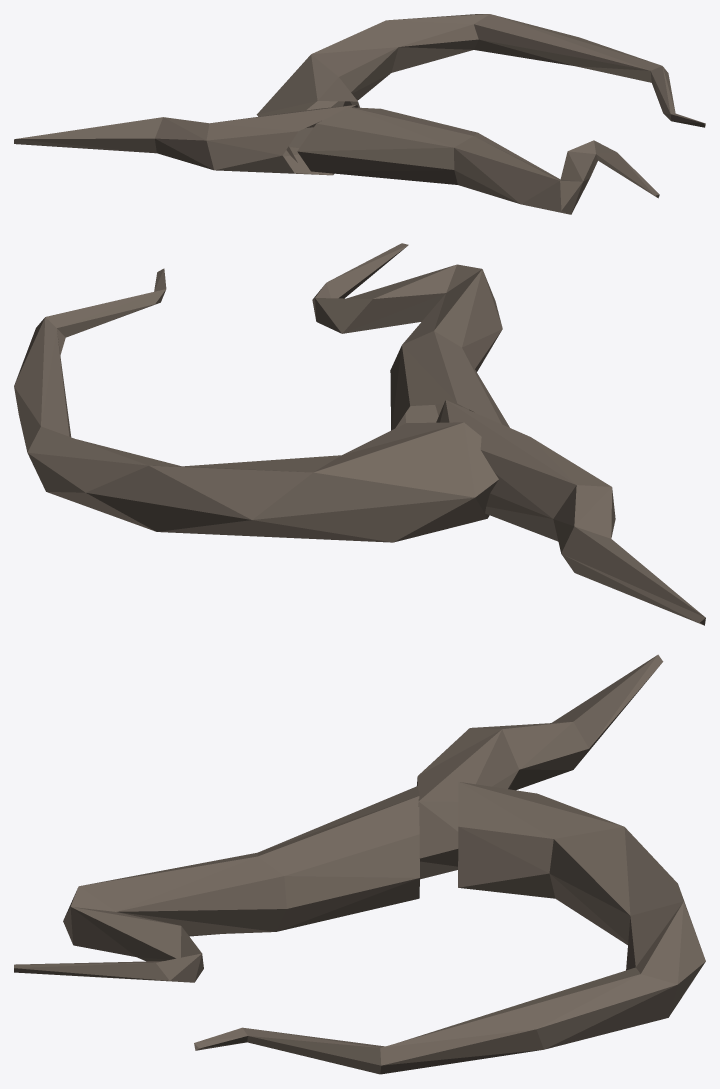
File: Prefab_Generic_Base_Roots_D.glb
3 renders of one model, top to bottom at view 1: azimuth 30°, elevation 25°; view 2: azimuth 150°, elevation 25°; view 3: azimuth 270°, elevation 25°, orthographic. The views are drawn at different scales.
Visible parts, largest first — view 1: Prefab_Tree_Base_Roots.001; view 2: Prefab_Tree_Base_Roots.001; view 3: Prefab_Tree_Base_Roots.001.
Part boxes in pixels (x1=…): Prefab_Tree_Base_Roots.001: x1=14, y1=14, x2=705, y2=214; Prefab_Tree_Base_Roots.001: x1=14, y1=243, x2=705, y2=625; Prefab_Tree_Base_Roots.001: x1=14, y1=654, x2=705, y2=1074.
Size of the model in its own units: 3.59 by 0.398 by 2.58.
1 material, 1 textured.
